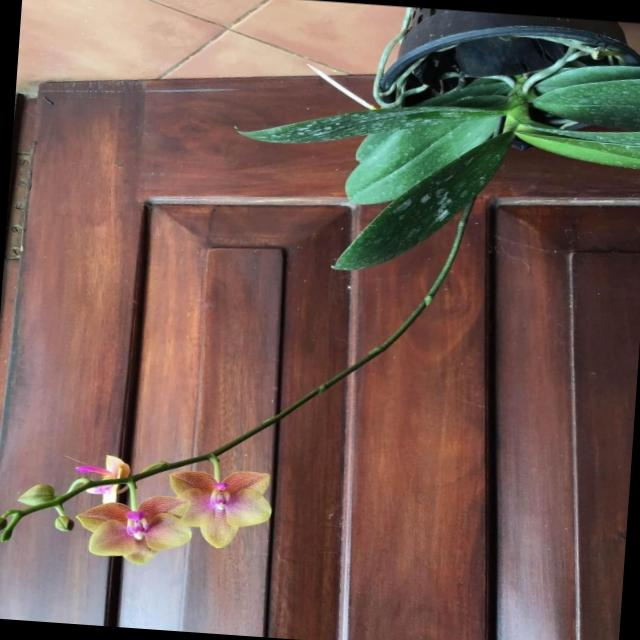flower: (169, 466, 271, 548), (79, 500, 190, 563)
leaf: (343, 121, 512, 268), (345, 116, 499, 203), (236, 96, 504, 143), (532, 67, 640, 136), (525, 129, 640, 165)
pot: (367, 3, 640, 155)
root: (372, 8, 638, 109), (306, 63, 376, 109)
